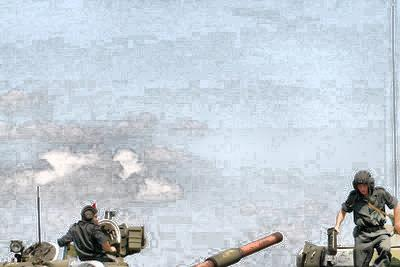tanks: (192, 235, 282, 267), (93, 223, 146, 267), (1, 242, 90, 267), (299, 239, 351, 267), (389, 237, 400, 267)
